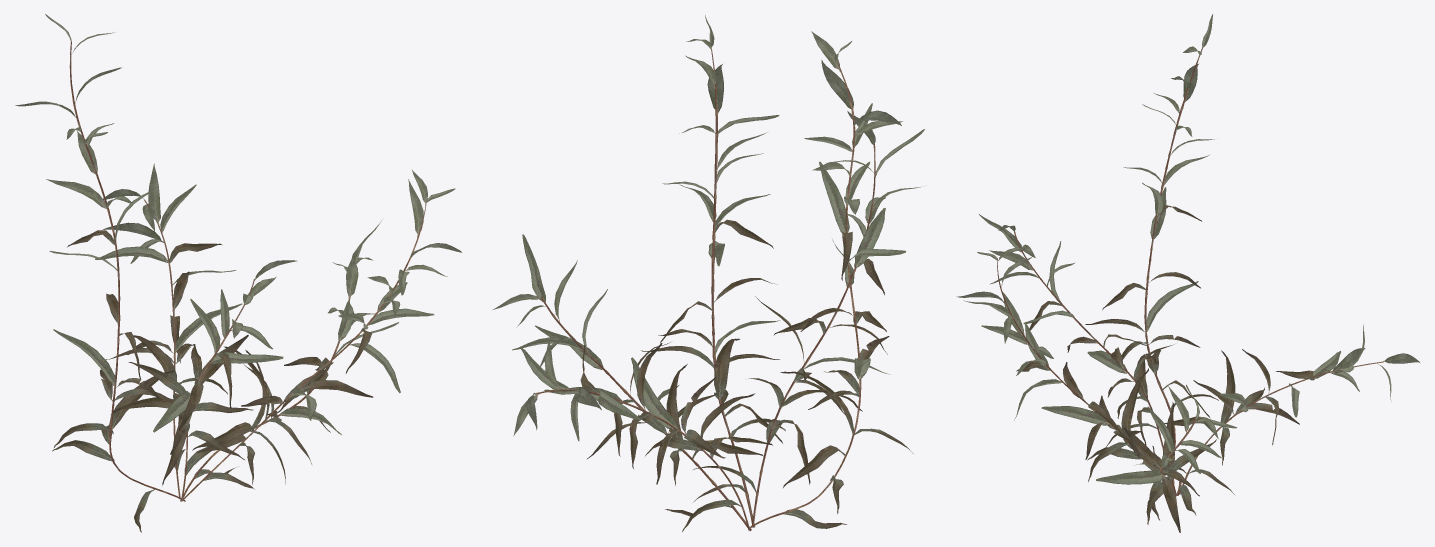
File: natural-berry-bush-weathered-depleted.glb
3 renders of one model, left to right at view 1: azimuth 30°, elevation 25°; view 2: azimuth 150°, elevation 25°; view 3: azimuth 270°, elevation 25°, orthographic. The views are drawn at different scales.
Visible parts, largest first — view 1: natural-berry-bush-weathered-depleted runtime mesh; view 2: natural-berry-bush-weathered-depleted runtime mesh; view 3: natural-berry-bush-weathered-depleted runtime mesh.
Boxes of the visible parts, x1,y1,x2,y2 form: natural-berry-bush-weathered-depleted runtime mesh: [15, 14, 461, 532]; natural-berry-bush-weathered-depleted runtime mesh: [492, 15, 924, 531]; natural-berry-bush-weathered-depleted runtime mesh: [956, 14, 1419, 532].
Bounding box in the file's own units: 0.8156 × 1.05 × 1.02.
Materials: 1 (1 with a texture image).
